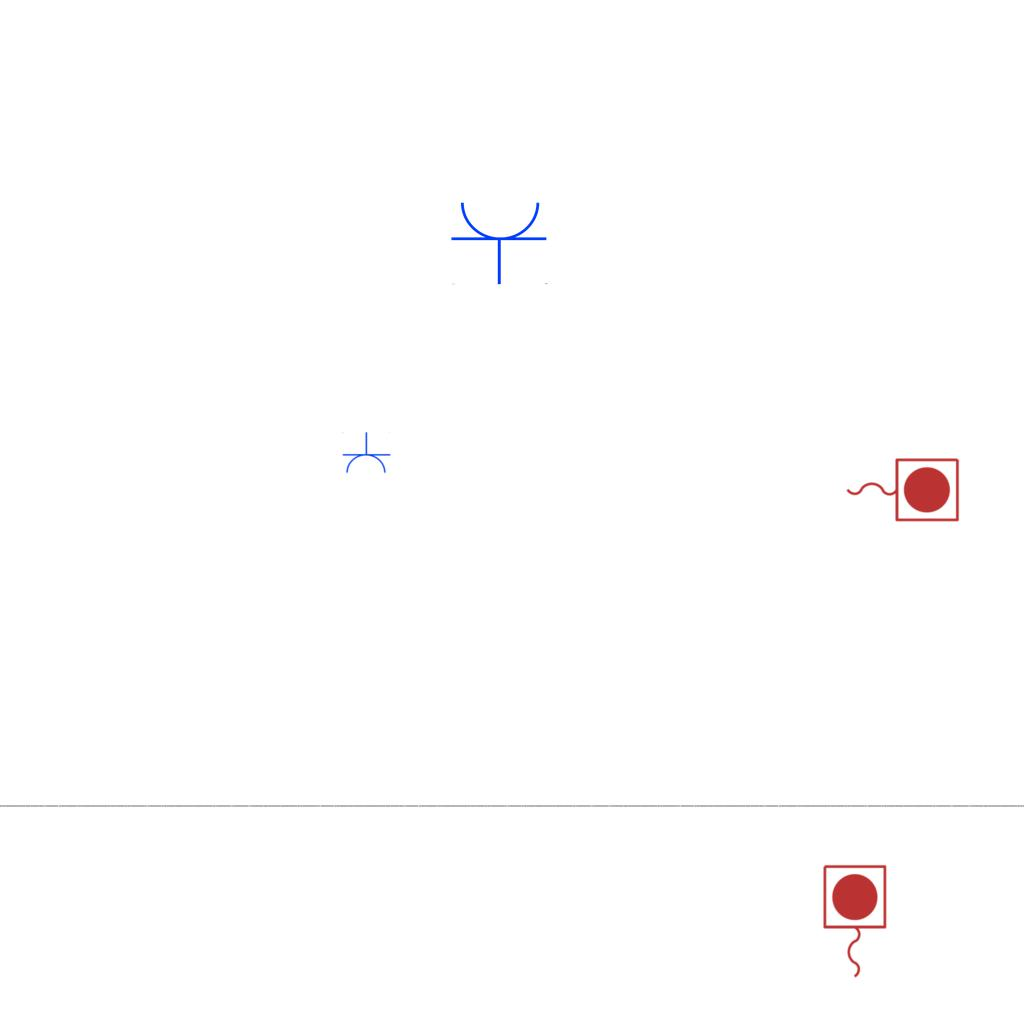Schukosteckdose_einfach: (450, 198, 550, 285), (341, 432, 391, 475)
Zugtaster: (841, 453, 963, 525), (818, 861, 890, 983)
